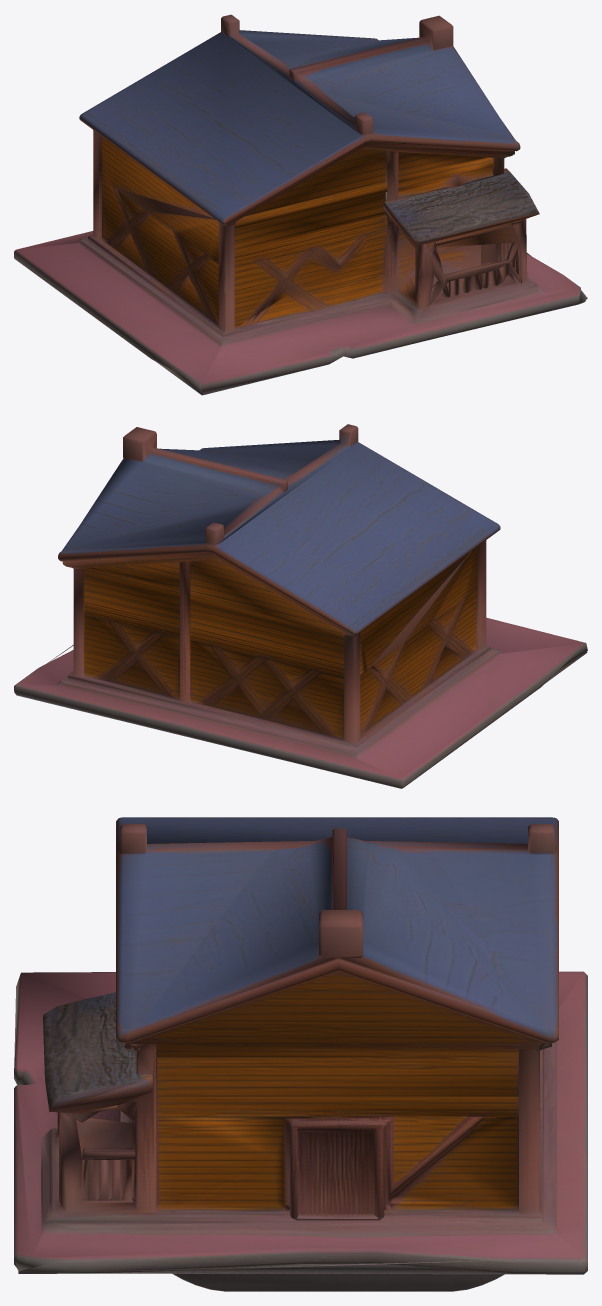
The model's file is small_warehouse.glb.
3 renders of one model, top to bottom at view 1: azimuth 30°, elevation 25°; view 2: azimuth 150°, elevation 25°; view 3: azimuth 270°, elevation 25°, orthographic. The views are drawn at different scales.
Parts seen in each view (by area): view 1: texture_pbr_v128; view 2: texture_pbr_v128; view 3: texture_pbr_v128.
Boxes of the visible parts, box(x1,y1,x2,y2) form: texture_pbr_v128: box(14, 14, 587, 395); texture_pbr_v128: box(14, 424, 587, 788); texture_pbr_v128: box(14, 817, 587, 1291).
Bounding box in the file's own units: 1.9 × 1.13 × 1.59.
Materials: 1 (1 with a texture image).
